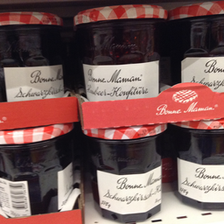jam: (74, 2, 168, 99), (83, 128, 166, 222), (1, 125, 77, 219), (1, 11, 71, 99), (168, 2, 224, 93), (174, 119, 224, 211)
